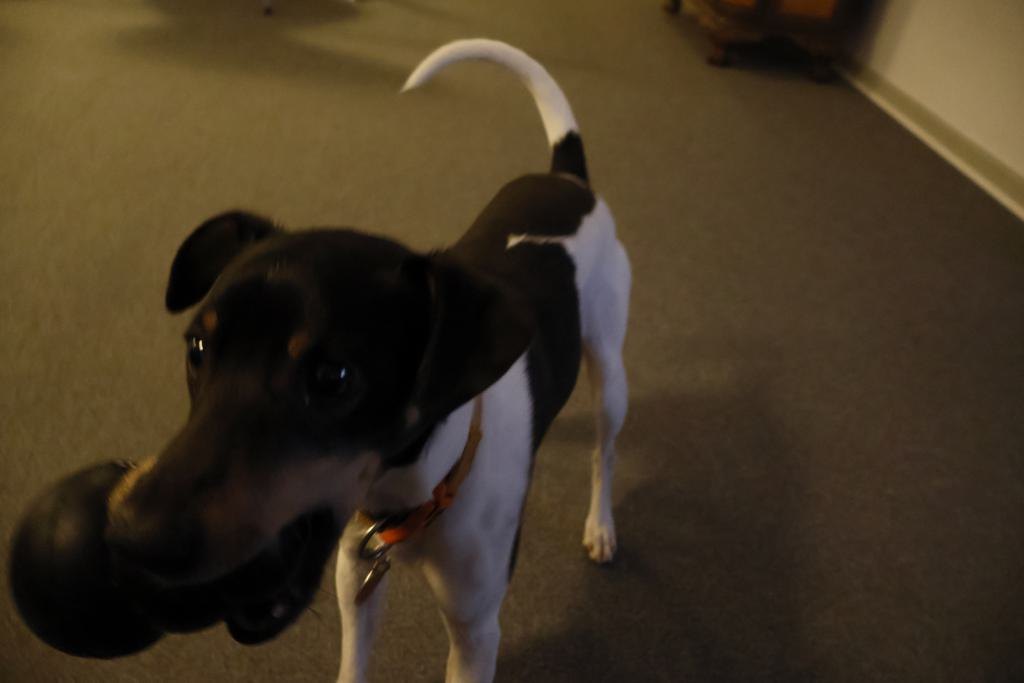Dog: (83, 30, 639, 683)
